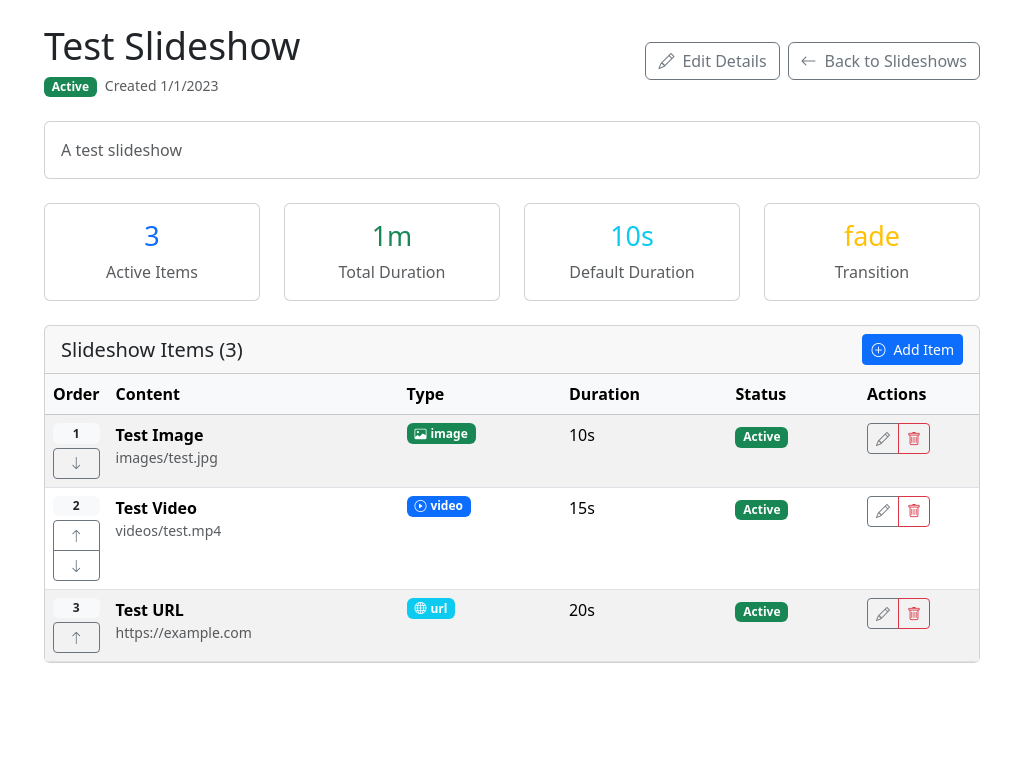
Test: SlideshowDetail › handles edit item
Expected: the text "Test Image" is shown, [116,424,203,446]
Click edit button for first item
Click the button titled "Edit" in the row of "Test Image" at coordinates (883, 439), box [867,423,899,454]
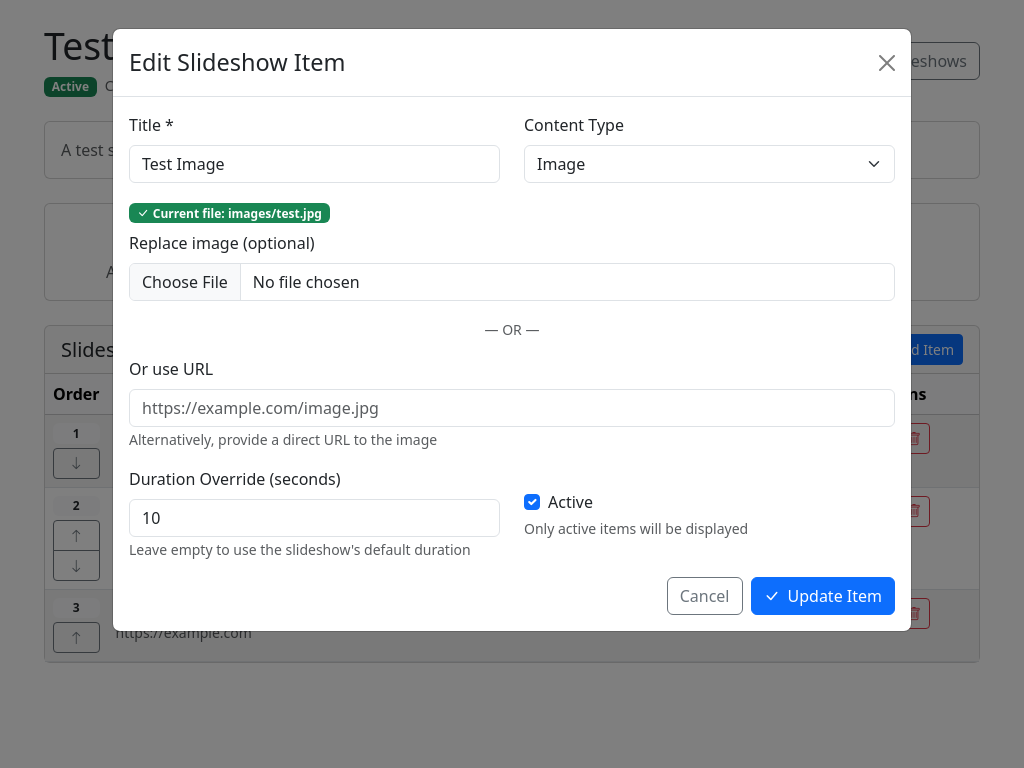
Expected: the text "Edit Slideshow Item" is shown, [129,45,345,80]
